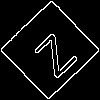Z: (25, 25, 79, 80)
